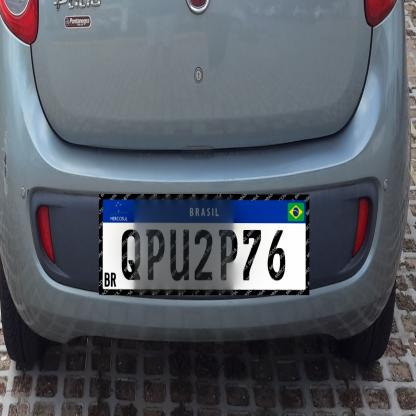PlacaM: (99, 194, 309, 295)
